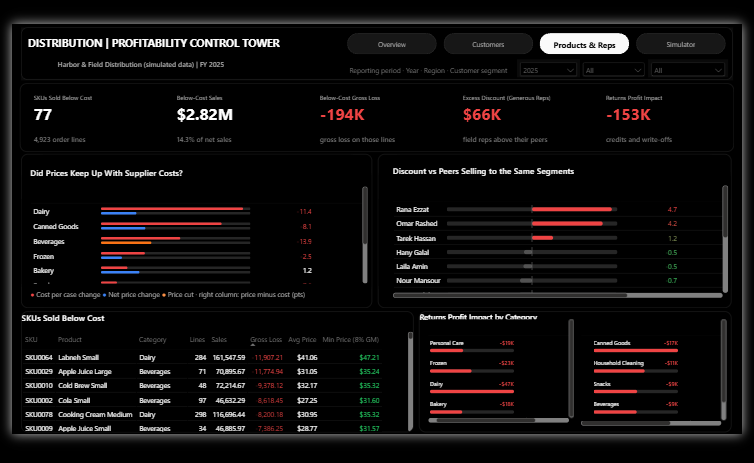

The dashboard page shown, as its layout file describes it:
{"tool":"powerbi","page":{"name":"Products & Reps","canvas":[1280,720],"ordinal":2},"visuals":[{"type":"shape","box":[15.8,5.7,1248.3,91.8],"z":0,"group":"g1"},{"type":"shape","title":"Pocket Margin by Segment","box":[14.3,103.3,1252.6,120.5],"z":0},{"type":"cardVisual","fields":{"Data":["_Measures.SKUs Sold Below Cost","_Measures.Below-Cost Sales","_Measures.Below-Cost Gross Loss","_Measures.Excess Discount (Generous Reps)","_Measures.Returns Profit Impact"]},"box":[21.5,124.8,1248,98.8],"z":1000},{"type":"group","id":"g1","title":"Group 1","box":[15.8,5.7,1248.3,91.8],"z":2000},{"type":"textbox","box":[27.2,19.8,520.8,30.1],"z":2000,"group":"g1"},{"type":"cardVisual","fields":{"Data":["_Measures.Report Subtitle"]},"box":[64.5,57.4,520,24],"z":3000,"group":"g1"},{"type":"shape","title":"Did Prices Keep Up With Supplier Costs?","box":[16,228,616,270],"z":3000},{"type":"slicer","fields":{"Values":["dim_date.date.Variation.Date Hierarchy.Year"]},"box":[885.3,61.7,110.5,31.6],"z":4000,"group":"g1"},{"type":"tableEx","title":"Did Prices Keep Up With Supplier Costs?","fields":{"Values":["dim_product.category","_Measures.SVG Cost vs Price","_Measures.Price minus Cost pts","_Measures.Cost Change %"]},"box":[15.8,235.3,624.1,235.3],"z":4000},{"type":"pageNavigator","box":[587.6,16.3,667.2,37.3],"z":5000,"group":"g1"},{"type":"textbox","box":[31.6,466.3,575.4,23],"z":5000},{"type":"slicer","fields":{"Values":["dim_customer.region"]},"box":[995.8,61.7,119.1,31.6],"z":6000,"group":"g1"},{"type":"shape","title":"Discount vs Peers Selling to the Same Segments","box":[642,228.1,620,270],"z":6000},{"type":"slicer","fields":{"Values":["dim_customer.segment"]},"box":[1114.9,61.7,140,32],"z":7000,"group":"g1"},{"type":"tableEx","title":"Discount vs Peers Selling to the Same Segments","fields":{"Values":["dim_rep.rep_name","_Measures.SVG Rep Bar","_Measures.Excess Discount pts","_Measures.SVG Rep Pill"]},"box":[652.9,234.9,620,262.5],"z":7000},{"type":"textbox","box":[592.6,71.7,292.6,22.2],"z":8000,"group":"g1"},{"type":"tableEx","title":"SKUs Sold Below Cost","fields":{"Values":["dim_product.sku","dim_product.product_name","dim_product.category","_Measures.Below-Cost Lines","_Measures.Below-Cost Sales","_Measures.Below-Cost Gross Loss","_Measures.Avg Net Price","_Measures.Min Price (8% GM)"]},"box":[15.8,503.6,688.7,212.4],"z":8000},{"type":"shape","title":"Returns Profit Impact by Category","box":[713.1,503.6,548.1,212.4],"z":9000},{"type":"tableEx","fields":{"Values":["_Measures.SVG Returns Bar","dim_product.category","_Measures.Returns Rank"]},"box":[714,504,288,212],"z":10000},{"type":"tableEx","fields":{"Values":["_Measures.SVG Returns Bar","dim_product.category","_Measures.Returns Rank"]},"box":[982.9,503.4,287,216.6],"z":11000}]}

Visuals, with their boxes on the page's 1280x720 design canvas (x1, y1, x2, y2). These are canvas units, not pixel positions in the 754x463 screenshot, which may show the page scaled, cropped or inside an application window:
shape: pyautogui.locateOnScreen(16, 6, 1264, 98)
"Pocket Margin by Segment" shape: pyautogui.locateOnScreen(14, 103, 1267, 224)
cardVisual - _Measures.SKUs Sold Below Cost x _Measures.Below-Cost Sales: pyautogui.locateOnScreen(22, 125, 1270, 224)
"Group 1" group: pyautogui.locateOnScreen(16, 6, 1264, 98)
textbox: pyautogui.locateOnScreen(27, 20, 548, 50)
cardVisual - _Measures.Report Subtitle: pyautogui.locateOnScreen(64, 57, 584, 81)
"Did Prices Keep Up With Supplier Costs?" shape: pyautogui.locateOnScreen(16, 228, 632, 498)
slicer - dim_date.date.Variation.Date Hierarchy.Year: pyautogui.locateOnScreen(885, 62, 996, 93)
"Did Prices Keep Up With Supplier Costs?" tableEx: pyautogui.locateOnScreen(16, 235, 640, 471)
pageNavigator: pyautogui.locateOnScreen(588, 16, 1255, 54)
textbox: pyautogui.locateOnScreen(32, 466, 607, 489)
slicer - dim_customer.region: pyautogui.locateOnScreen(996, 62, 1115, 93)
"Discount vs Peers Selling to the Same Segments" shape: pyautogui.locateOnScreen(642, 228, 1262, 498)
slicer - dim_customer.segment: pyautogui.locateOnScreen(1115, 62, 1255, 94)
"Discount vs Peers Selling to the Same Segments" tableEx: pyautogui.locateOnScreen(653, 235, 1273, 497)
textbox: pyautogui.locateOnScreen(593, 72, 885, 94)
"SKUs Sold Below Cost" tableEx: pyautogui.locateOnScreen(16, 504, 704, 716)
"Returns Profit Impact by Category" shape: pyautogui.locateOnScreen(713, 504, 1261, 716)
tableEx - _Measures.SVG Returns Bar x dim_product.category: pyautogui.locateOnScreen(714, 504, 1002, 716)
tableEx - _Measures.SVG Returns Bar x dim_product.category: pyautogui.locateOnScreen(983, 503, 1270, 720)
